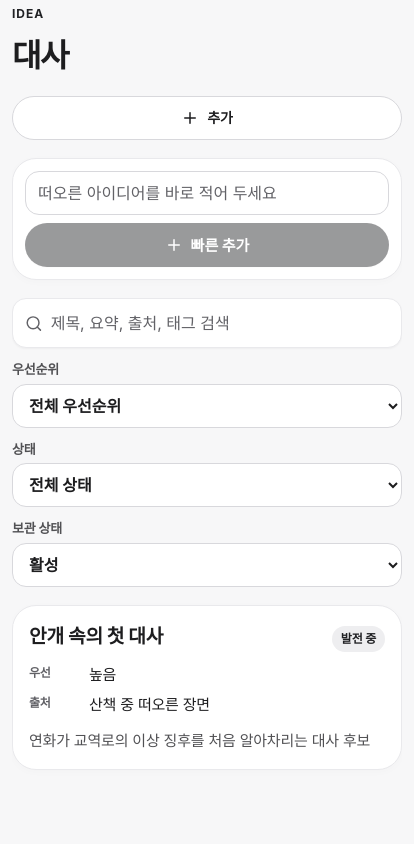
Test: Task 12 Idea pages › quick-adds an idea in the current type and shows it immediately
The width and height of the screenshot is (414, 844).
Expected: the heading "대사" is shown, [12, 36, 68, 75]
Expected: the text "안개 속의 첫 대사" is shown, [29, 624, 163, 648]
In the field with placeholder "떠오른 아이디어를 바로 적어 두세요": (207, 193) [25, 171, 389, 215], type "검은 방울의 속삭임"
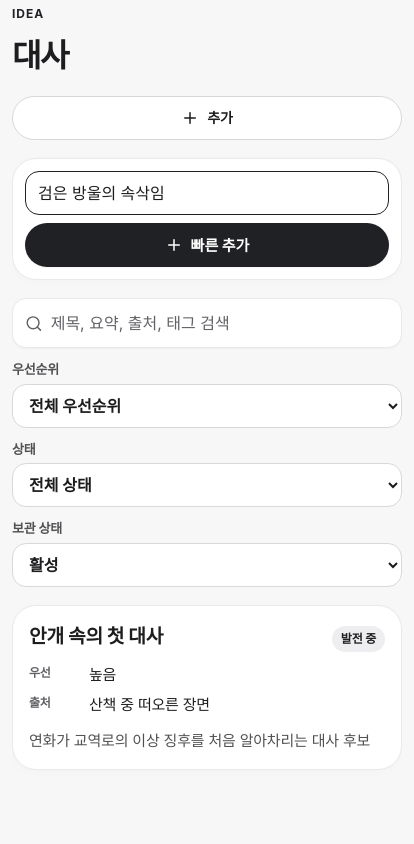
Click the button "빠른 추가": (207, 245) [25, 223, 389, 267]
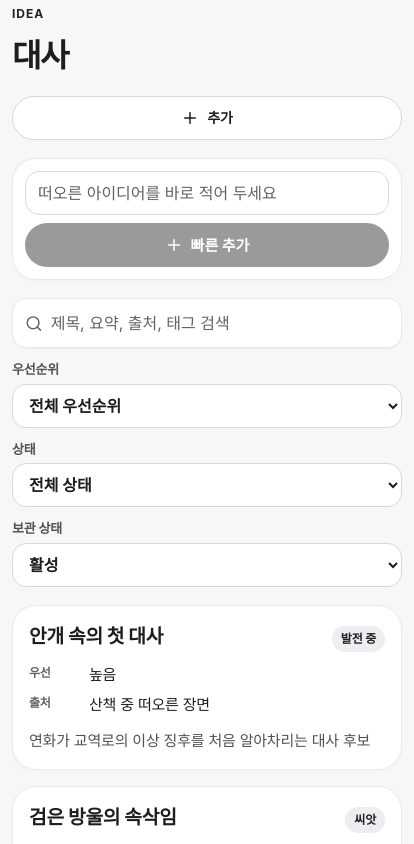
Expected: the text "검은 방울의 속삭임" is shown, [29, 805, 177, 829]
Expected: the field named "빠른 추가할 아이디어" is empty, [25, 171, 389, 215]
